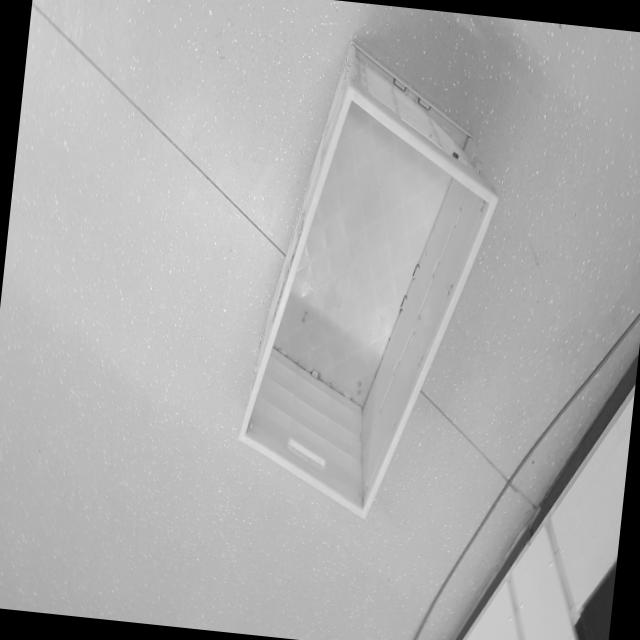box: (227, 32, 518, 546)
